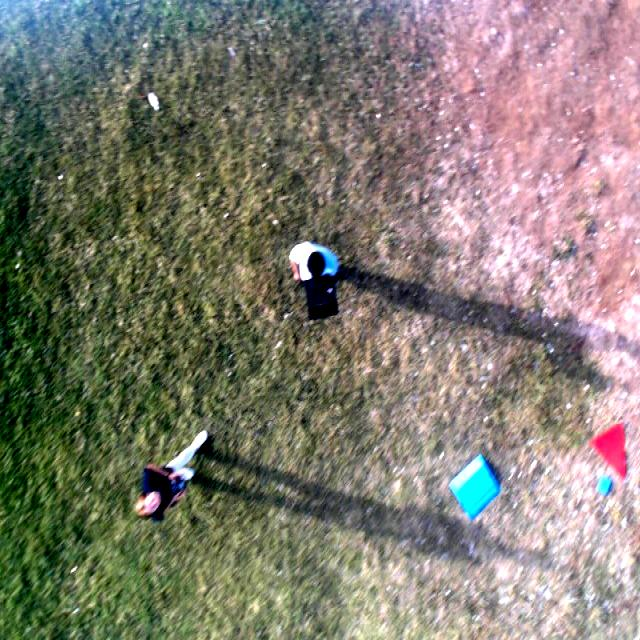blue_square: (450, 454, 500, 520)
red_triangle: (590, 421, 624, 479)
